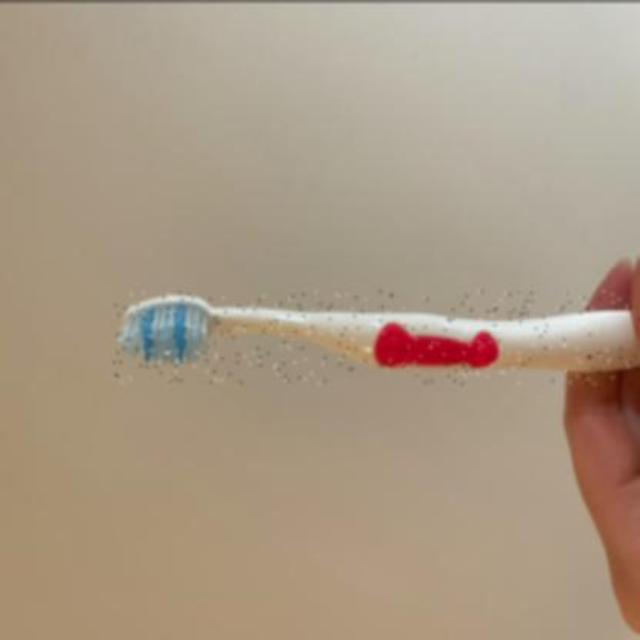toothbrush: (114, 290, 640, 382)
